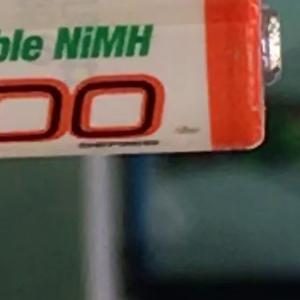NIMH: (44, 15, 163, 69)
